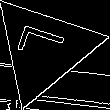L_E: (14, 26, 74, 72)
